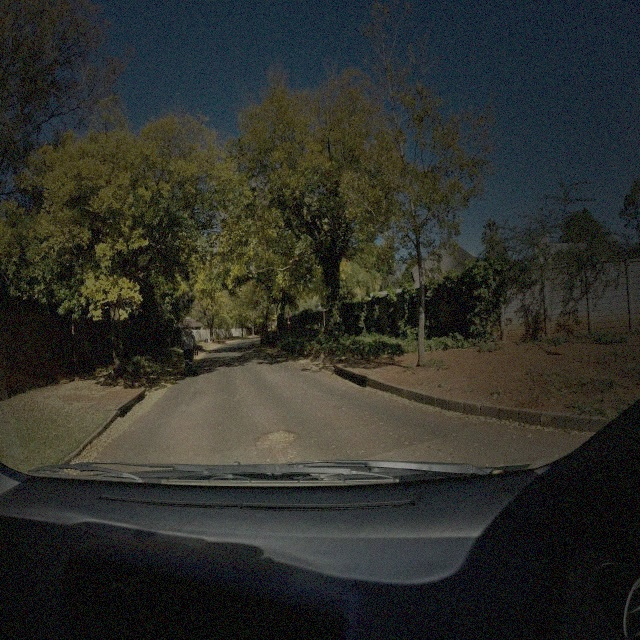pothole: (254, 428, 301, 449)
